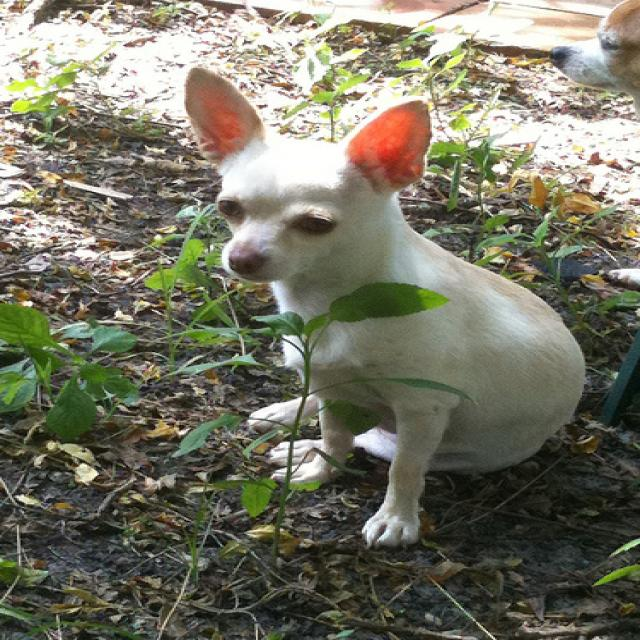dog-chihuahua: (176, 61, 596, 557)
